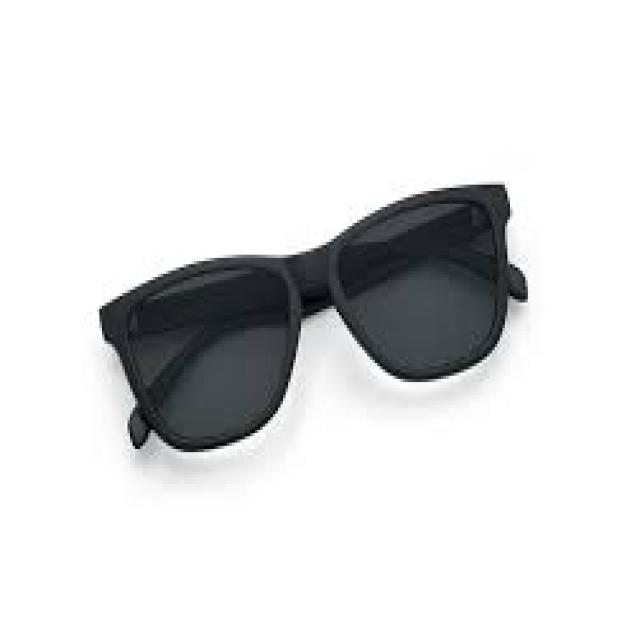suspicious-objects: (91, 177, 529, 460)
